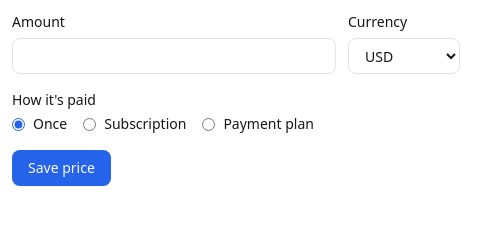
Test: PriceForm › marks the amount the server rejected
Type "0" into the field labelled "Amount" at (174, 56), box [12,38,336,74]
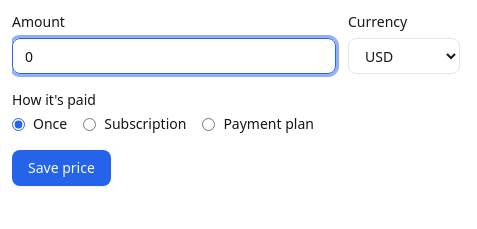
Click the button "Save price" at (61, 168), box [12,150,111,186]
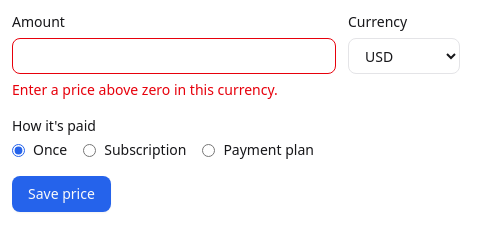
Expected: the text "Enter a price above zero in this currency." is shown, [12,80,278,99]
